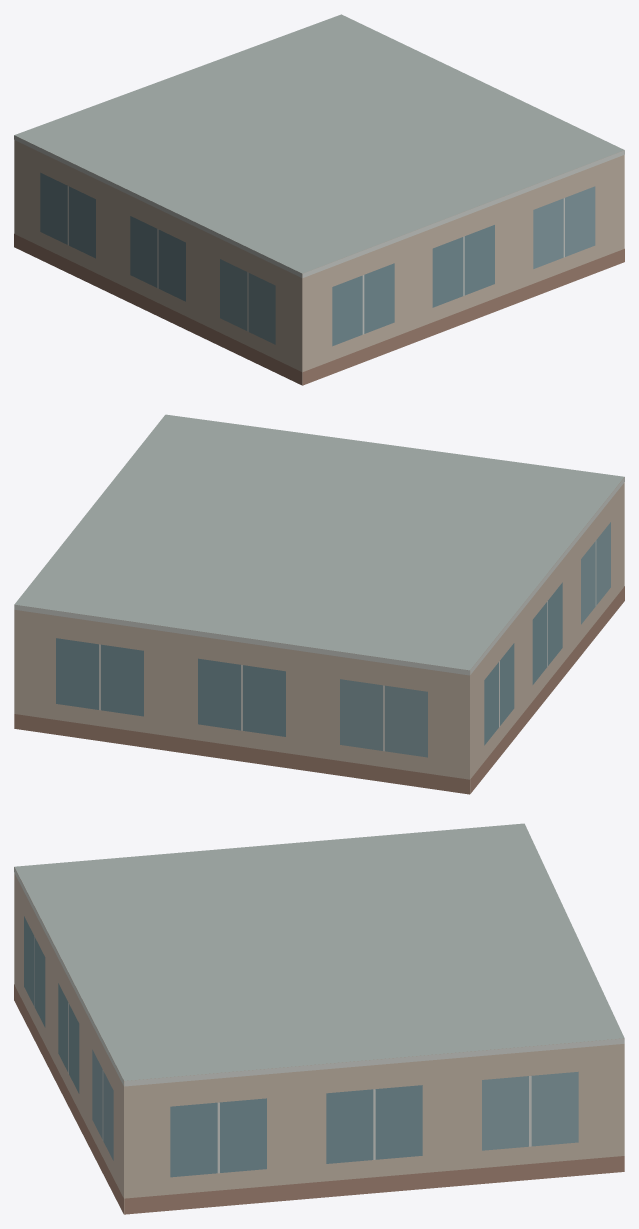
File: survey-upis-32606828.glb
3 views of the same model, one above another, from view 1: azimuth 30°, elevation 25°; view 2: azimuth 150°, elevation 25°; view 3: azimuth 270°, elevation 25° (orthographic). The views are drawn at different scales.
Parts seen in each view (by area): view 1: survey-upis-32606828.tmp; view 2: survey-upis-32606828.tmp; view 3: survey-upis-32606828.tmp.
Part boxes in pixels (<box>): survey-upis-32606828.tmp: <box>14,14,624,385</box>; survey-upis-32606828.tmp: <box>14,414,624,794</box>; survey-upis-32606828.tmp: <box>14,823,624,1214</box>.
Bounding box in the file's own units: 12.64 × 3.05 × 12.66.
